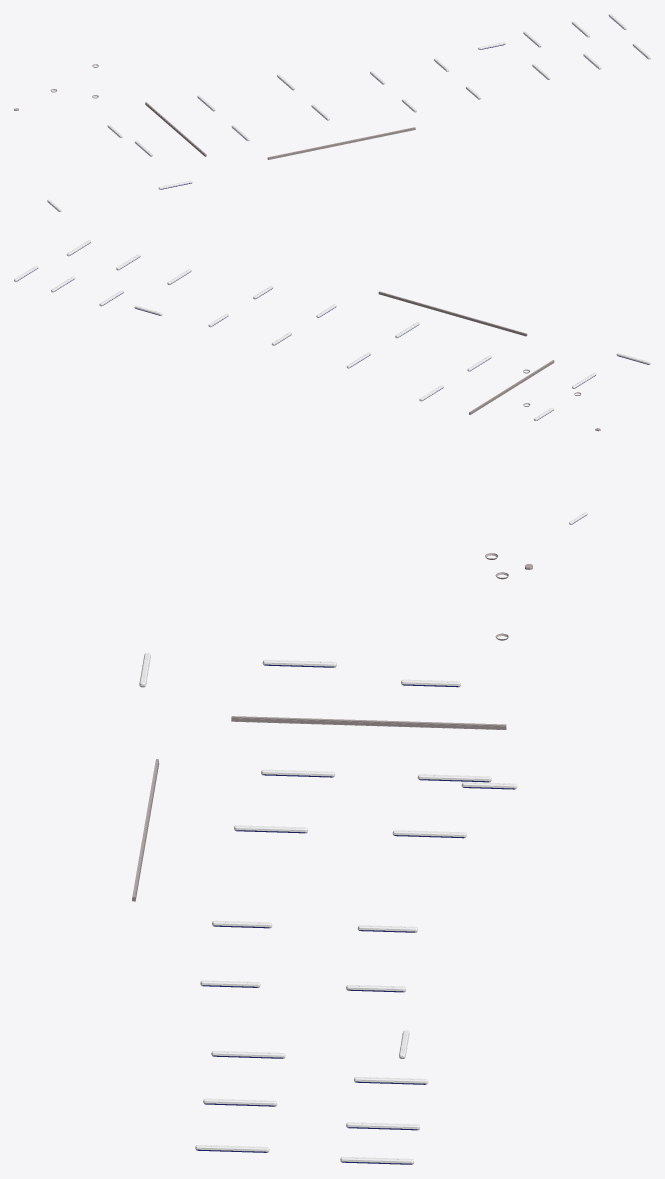
The picture shows the model from 3 angles, top to bottom: view 1: azimuth 30°, elevation 25°; view 2: azimuth 150°, elevation 25°; view 3: azimuth 270°, elevation 25°; orthographic projection. The views are drawn at different scales.
Visible parts, largest first — view 1: 1, 0; view 2: 1, 0; view 3: 1, 0, 2.
Boxes of the visible parts, x1=… form: 1: x1=47, y1=14, x2=650, y2=211; 0: x1=14, y1=64, x2=415, y2=159; 1: x1=14, y1=240, x2=650, y2=524; 0: x1=378, y1=291, x2=600, y2=431; 1: x1=139, y1=653, x2=517, y2=1164; 0: x1=132, y1=553, x2=532, y2=901; 2: x1=197, y1=664, x2=514, y2=1164.
Size of the model in its own units: 28.21 by 6.08 by 8.63.
